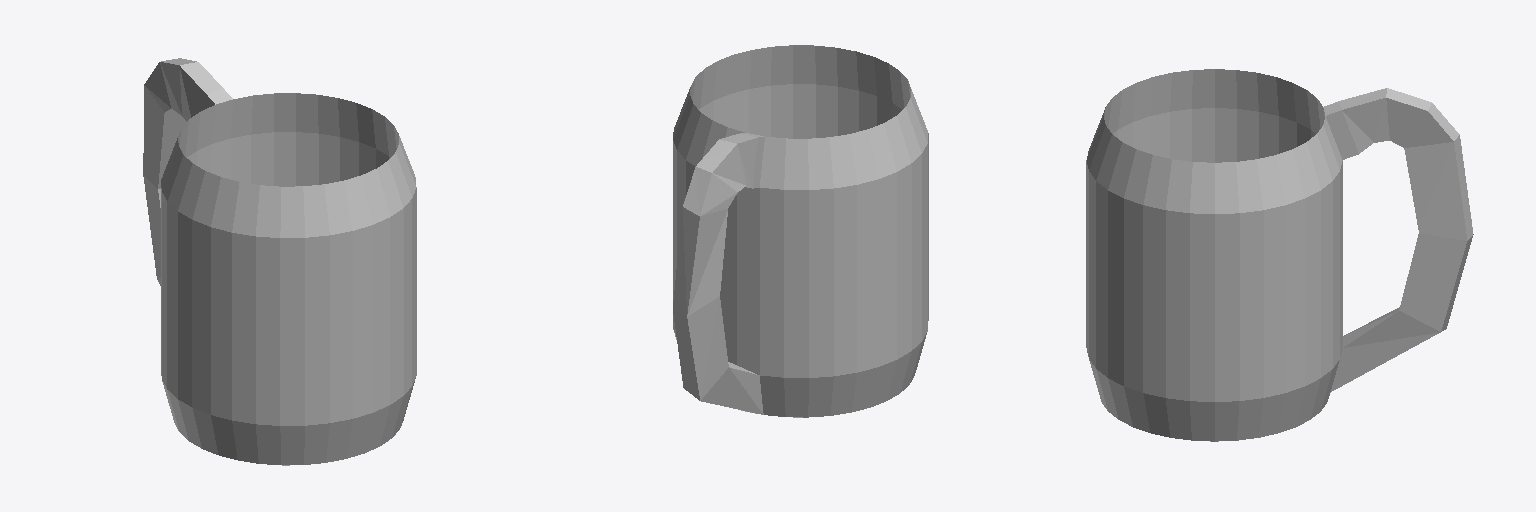
File: Cup.obj
3 renders of one model, left to right at view 1: azimuth 30°, elevation 25°; view 2: azimuth 150°, elevation 25°; view 3: azimuth 270°, elevation 25°, orthographic.
Parts seen in each view (by area): view 1: Cylinder; view 2: Cylinder; view 3: Cylinder.
Boxes of the visible parts, x1=… form: Cylinder: x1=143, y1=58, x2=416, y2=465; Cylinder: x1=673, y1=45, x2=928, y2=417; Cylinder: x1=1086, y1=69, x2=1473, y2=441.
Bounding box in the file's own units: 2 × 2.71 × 3.02.